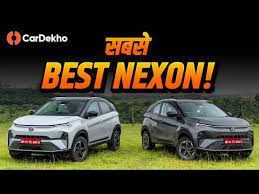Tata Nexon: (140, 96, 255, 164), (8, 97, 121, 165)
